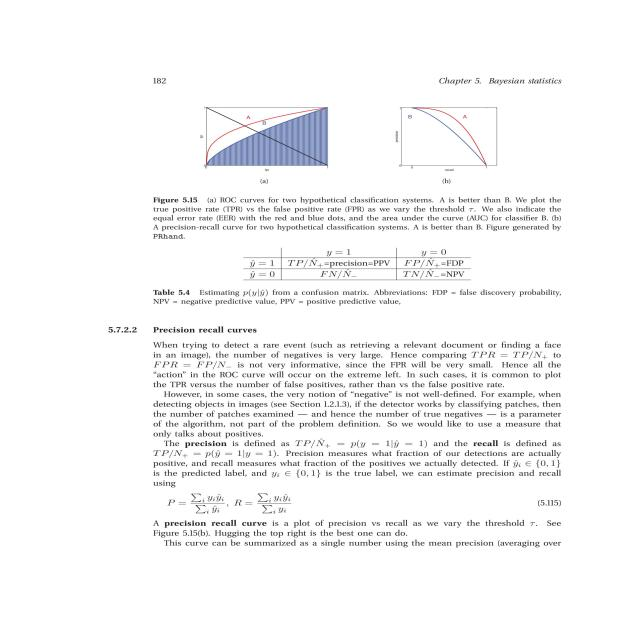diagram: (90, 93, 640, 247)
